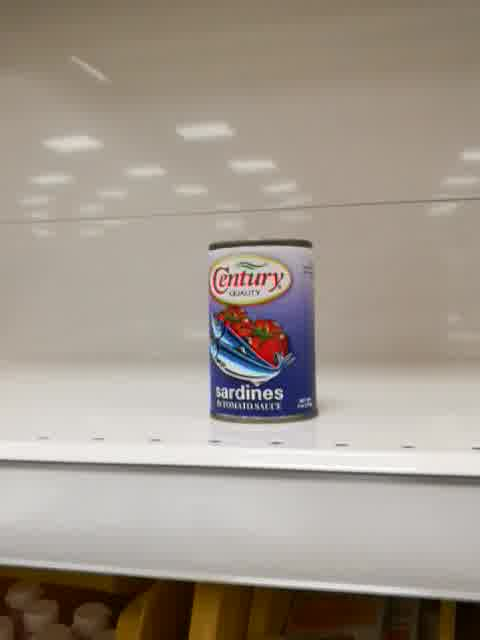sardine: (206, 237, 319, 425)
